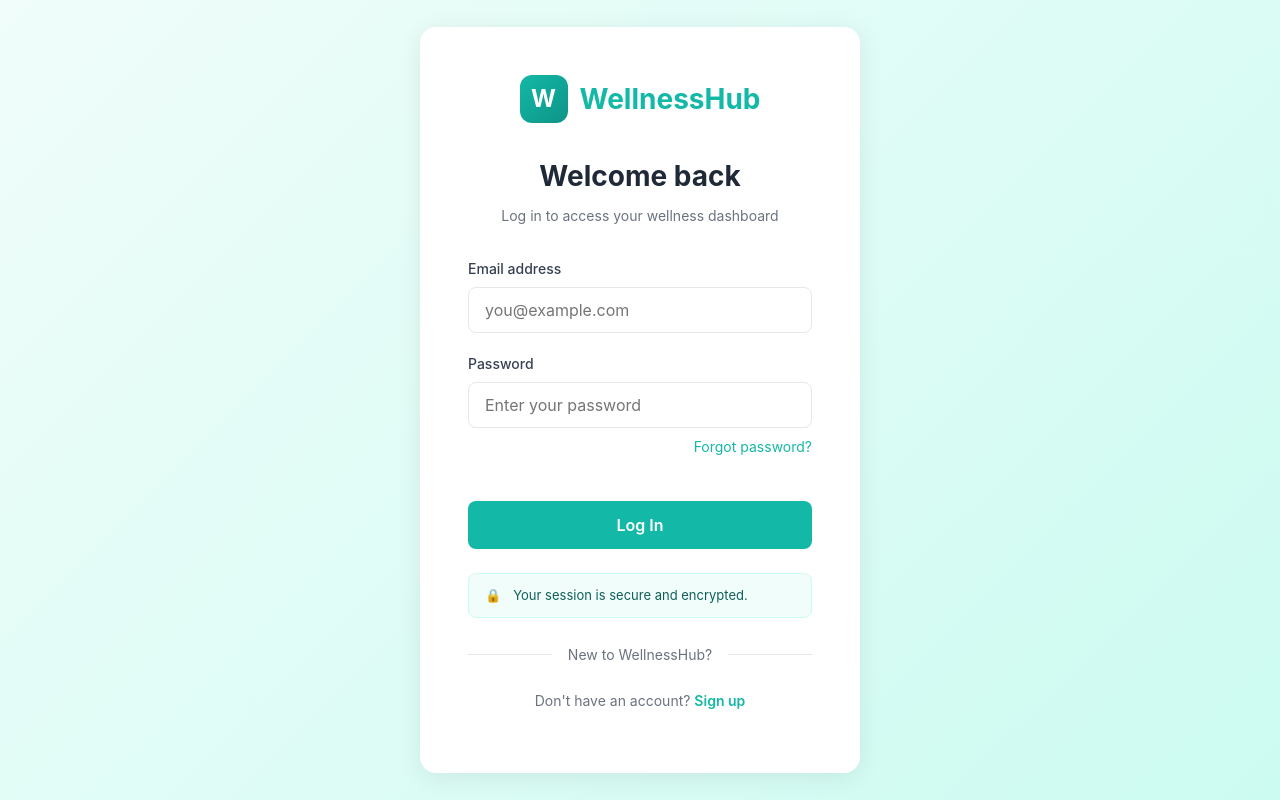
failed login › shows a generic error message on 401 without confirming account existence
The width and height of the screenshot is (1280, 800).
Type "unknown@example.com" into the field labelled "Email address" at (640, 310), box x1=468 y1=287 x2=812 y2=333
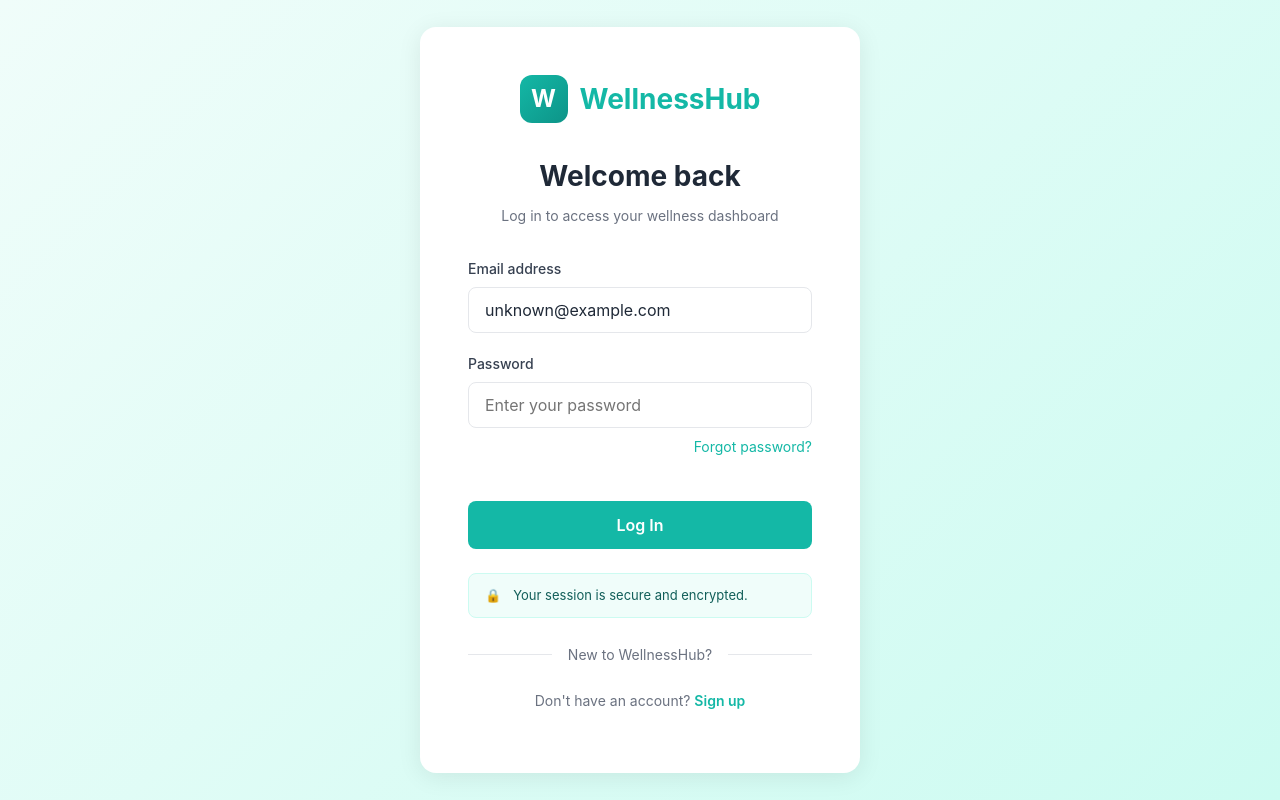
Type "wrongpass" into the password field labelled "Password" at (640, 405), box x1=468 y1=382 x2=812 y2=428
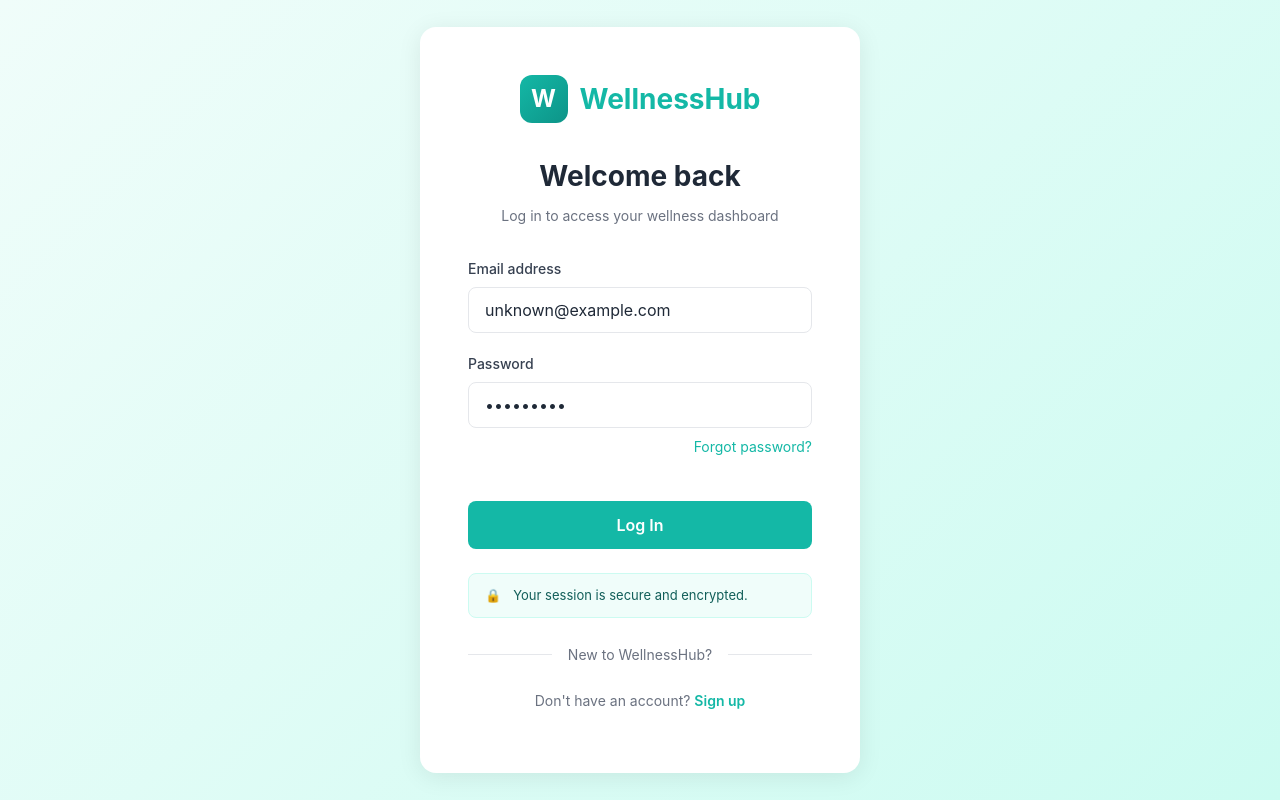
Submit the form "Email address Password Forgot password? Log In", box x1=468 y1=258 x2=812 y2=549
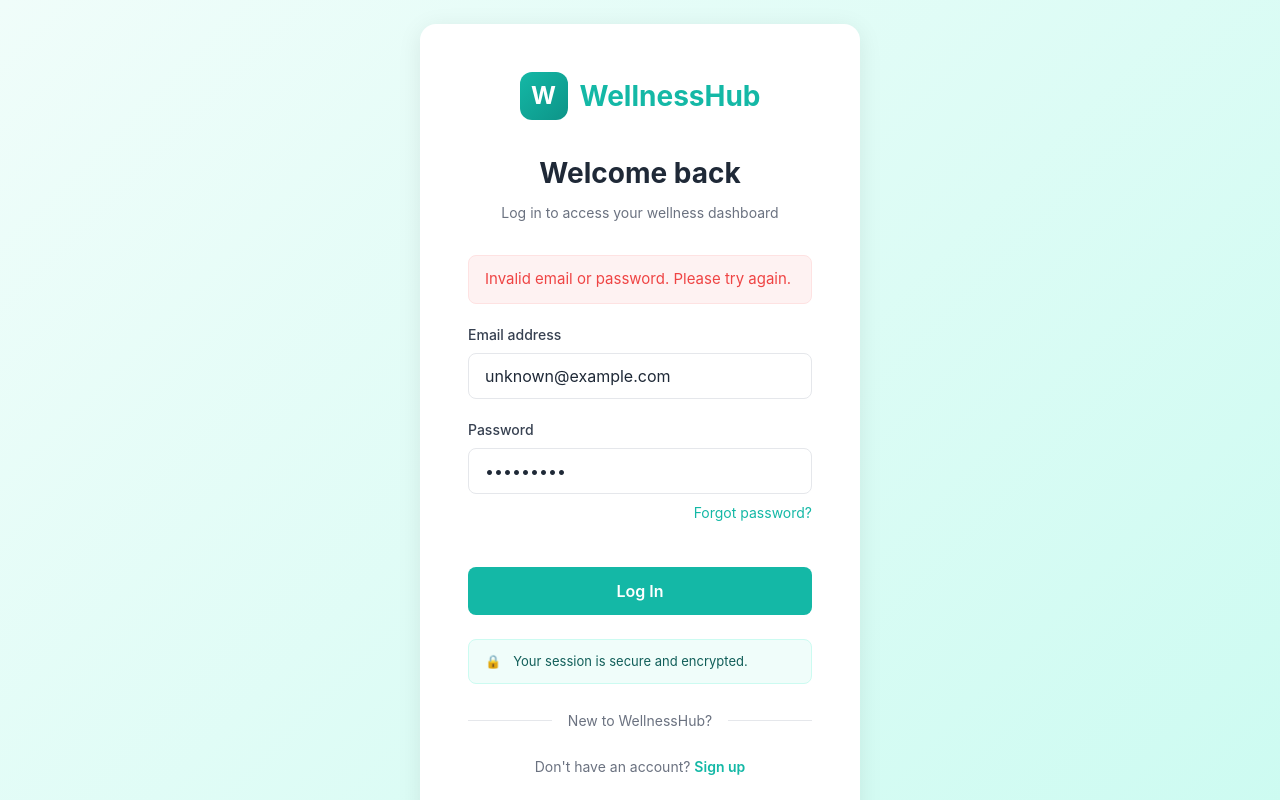
Expected: the text "Invalid email or password. Please try again." is shown, x1=468 y1=255 x2=812 y2=304
